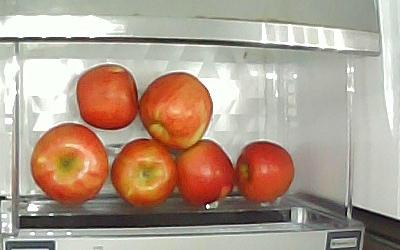apple: (31, 123, 109, 207), (141, 72, 213, 151), (111, 138, 176, 209), (76, 62, 138, 131), (176, 137, 234, 209), (236, 141, 294, 203)
